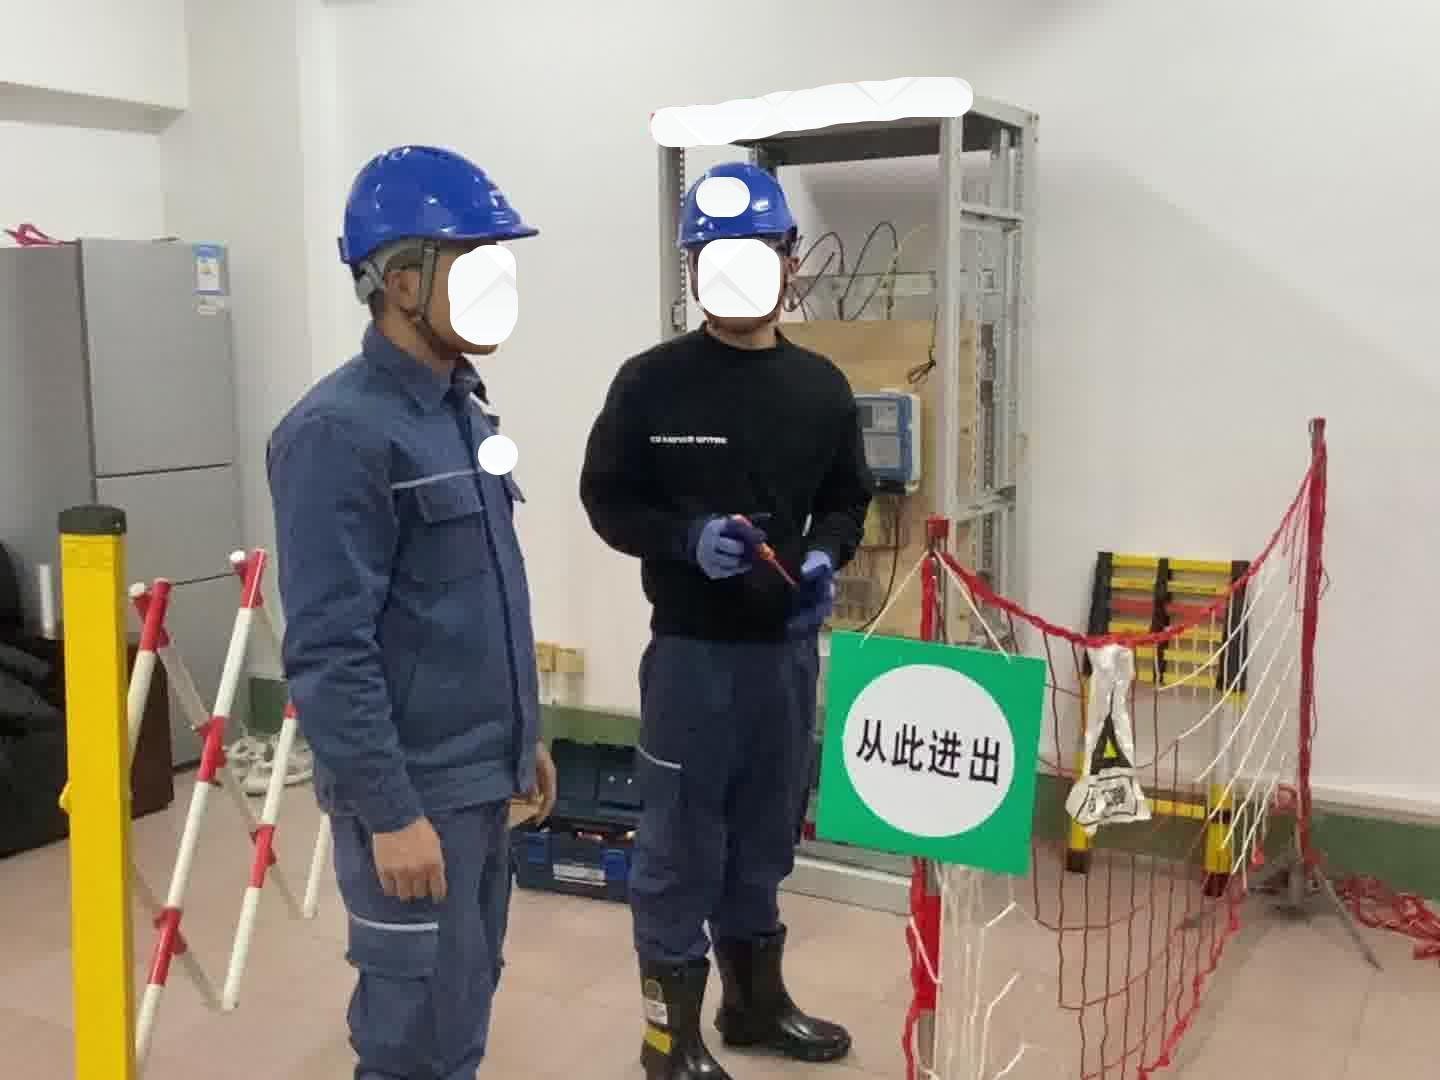halt: (338, 145, 544, 368), (675, 162, 807, 348)
inear: (367, 245, 451, 344)
